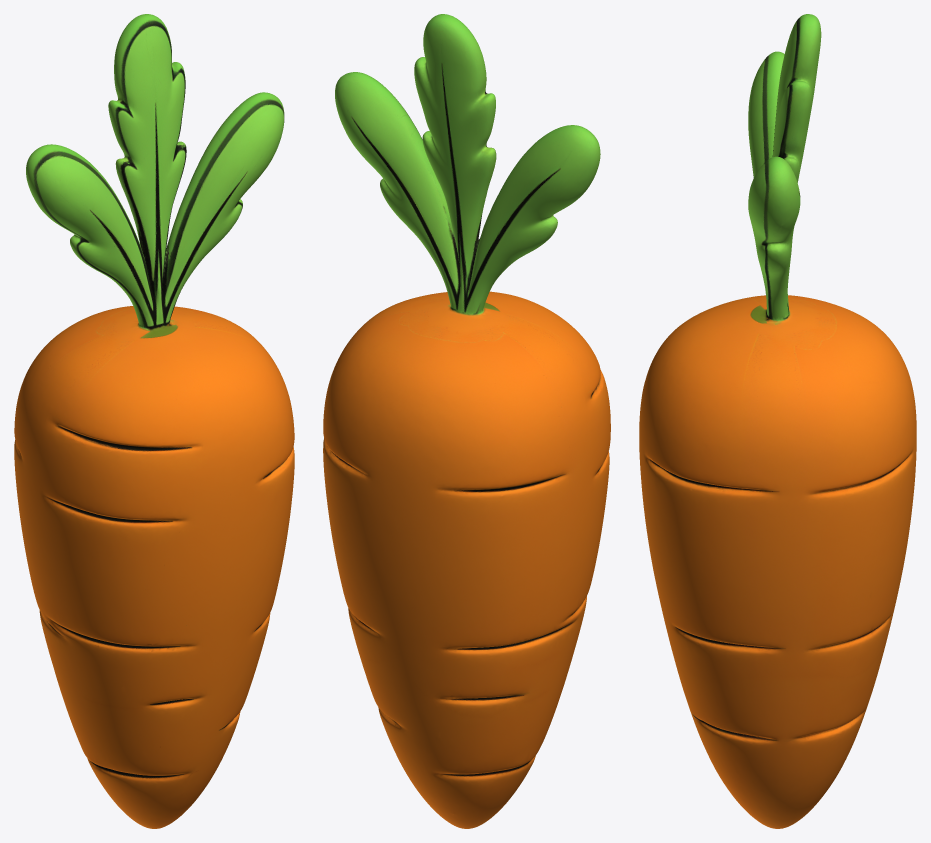
File: carrot.glb
3 renders of one model, left to right at view 1: azimuth 30°, elevation 25°; view 2: azimuth 150°, elevation 25°; view 3: azimuth 270°, elevation 25°, orthographic. The views are drawn at different scales.
Size of the model in its own units: 0.6336 by 1.9 by 0.5871.
1 material, 1 textured.
